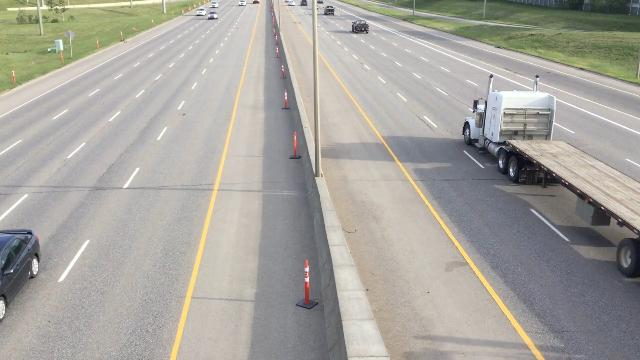car: (0, 230, 41, 326), (208, 10, 218, 19), (196, 8, 207, 16), (210, 0, 219, 8), (287, 0, 295, 6), (300, 0, 308, 5), (317, 0, 323, 4)
pickup-truck: (351, 18, 371, 37), (323, 4, 337, 17)
truck: (460, 72, 560, 180), (238, 0, 246, 6)
